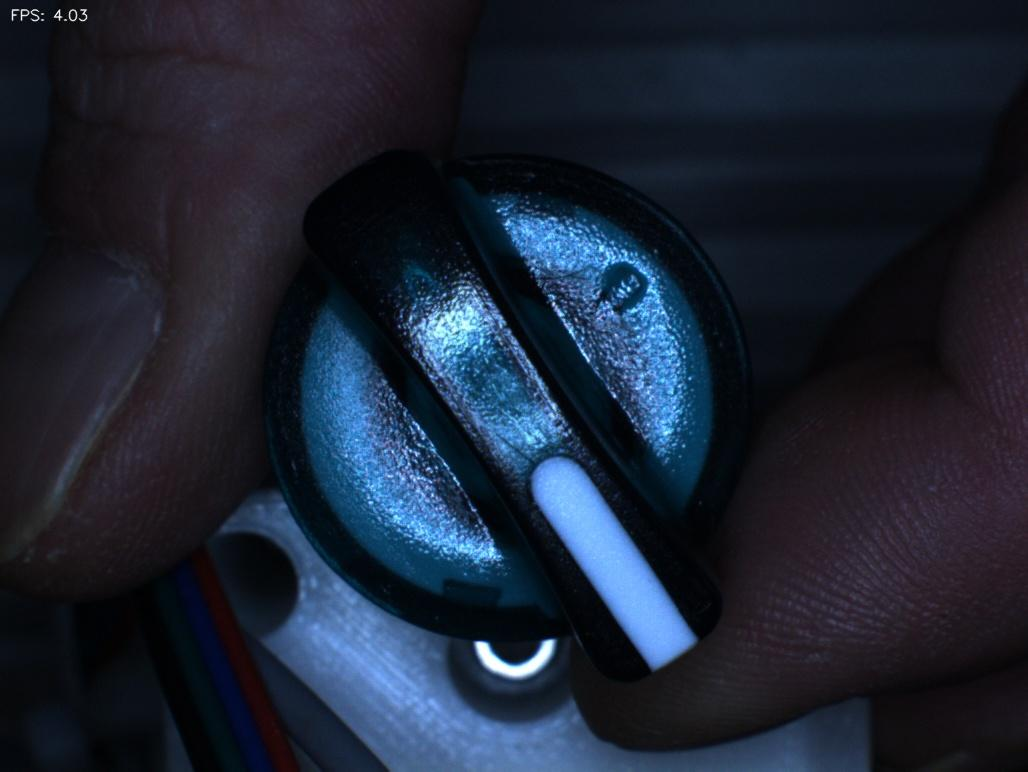Choc: (574, 236, 665, 334)
